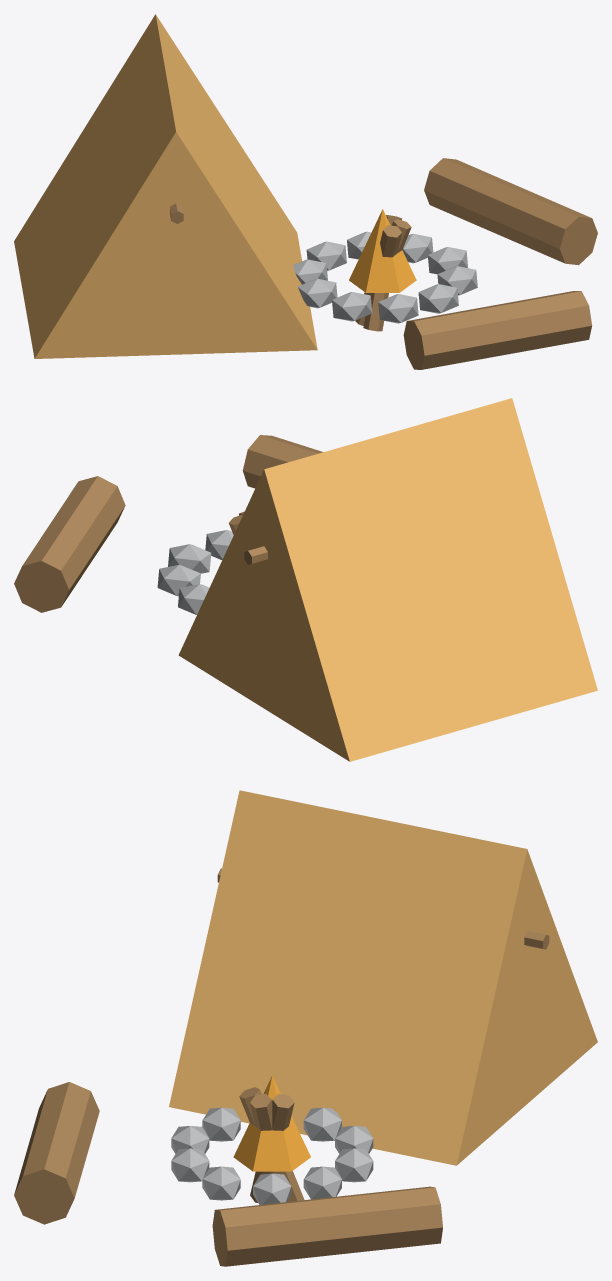
The model's file is CampSite.fbx.
3 views of the same model, one above another, from view 1: azimuth 30°, elevation 25°; view 2: azimuth 150°, elevation 25°; view 3: azimuth 270°, elevation 25° (orthographic). The views are drawn at different scales.
Parts seen in each view (by area): view 1: CampSite; view 2: CampSite; view 3: CampSite.
Boxes of the visible parts, box(x1,y1,x2,y2) form: CampSite: box(14, 14, 597, 369); CampSite: box(14, 398, 597, 761); CampSite: box(14, 790, 597, 1266).
Size of the model in its own units: 5.01 by 2.34 by 4.2.
